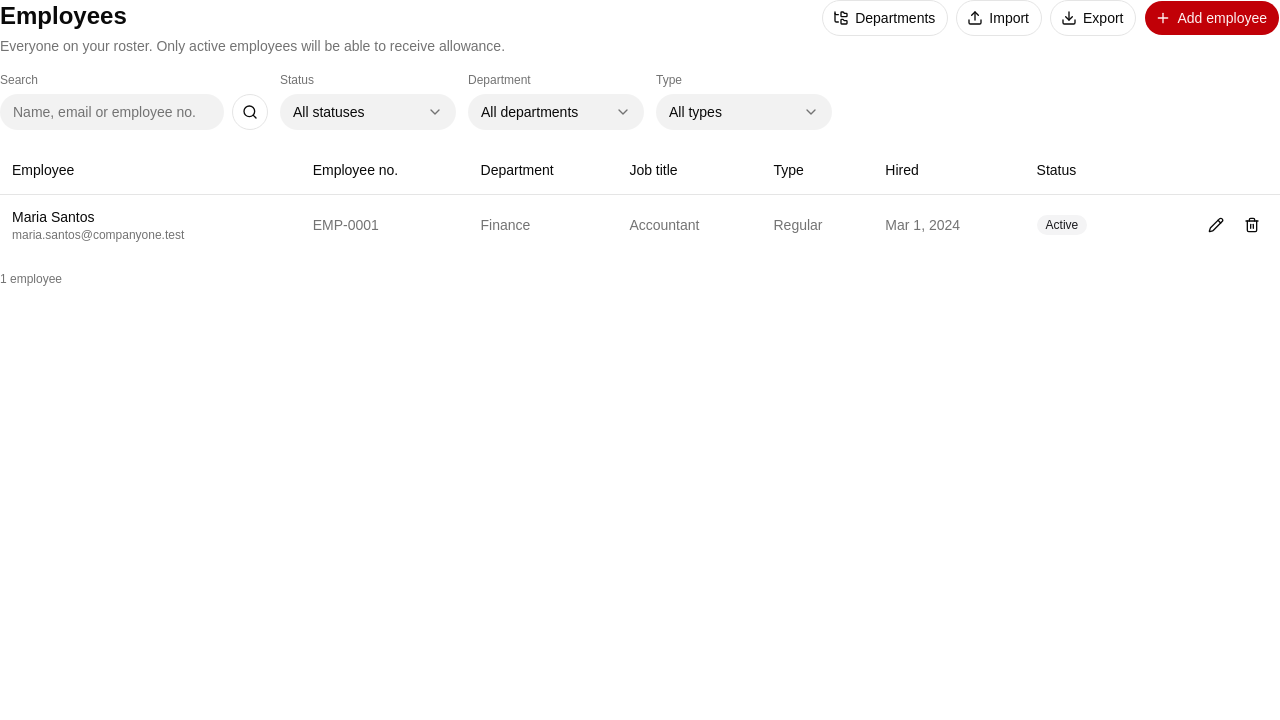
Scenario: EmployeesPage › opens the edit dialog pre-filled, with status and the employee's department
Check: the link "Maria Santos" is shown, box [12,208,94,224]
Click the button named "Edit Maria Santos".
click(1216, 224)  # box [1200,208,1232,240]
(page scrolled)
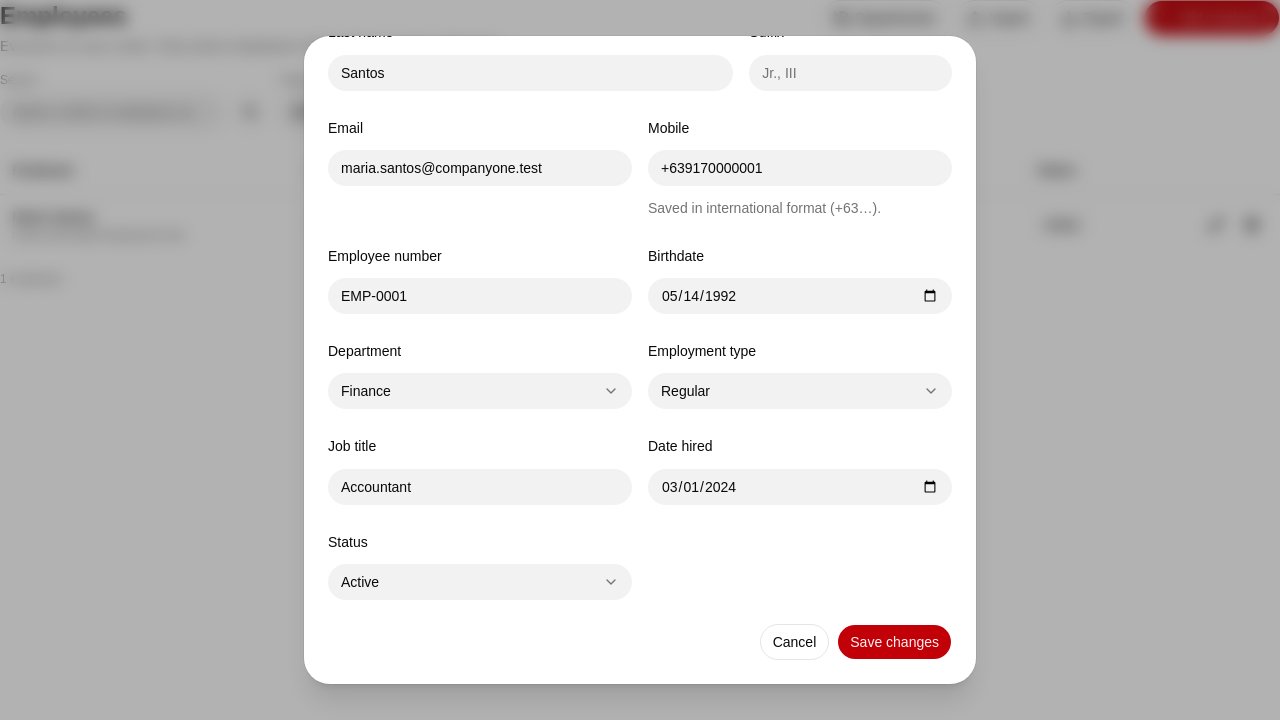
Check: the field labelled "Employee number" holds "EMP-0001", box [328,278,632,314]
Check: the date field labelled "Date hired" holds "2024-03-01", box [648,468,952,504]
Check: the date field labelled "Birthdate" holds "1992-05-14", box [648,278,952,314]
